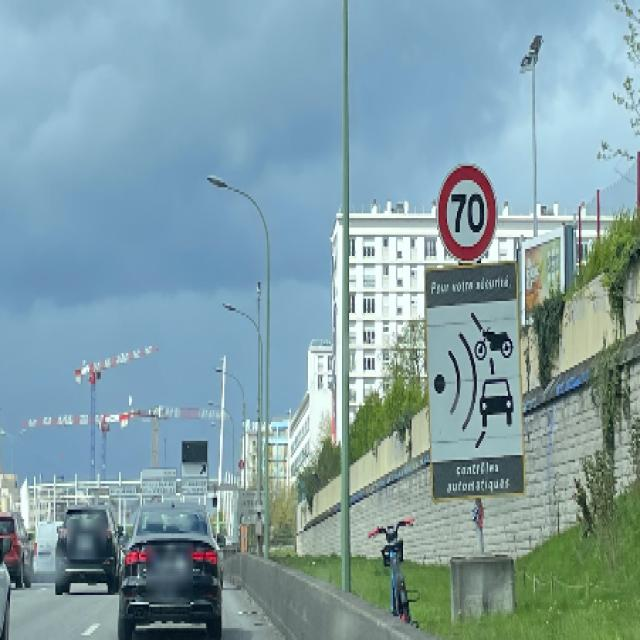speed_70: (436, 158, 497, 264)
